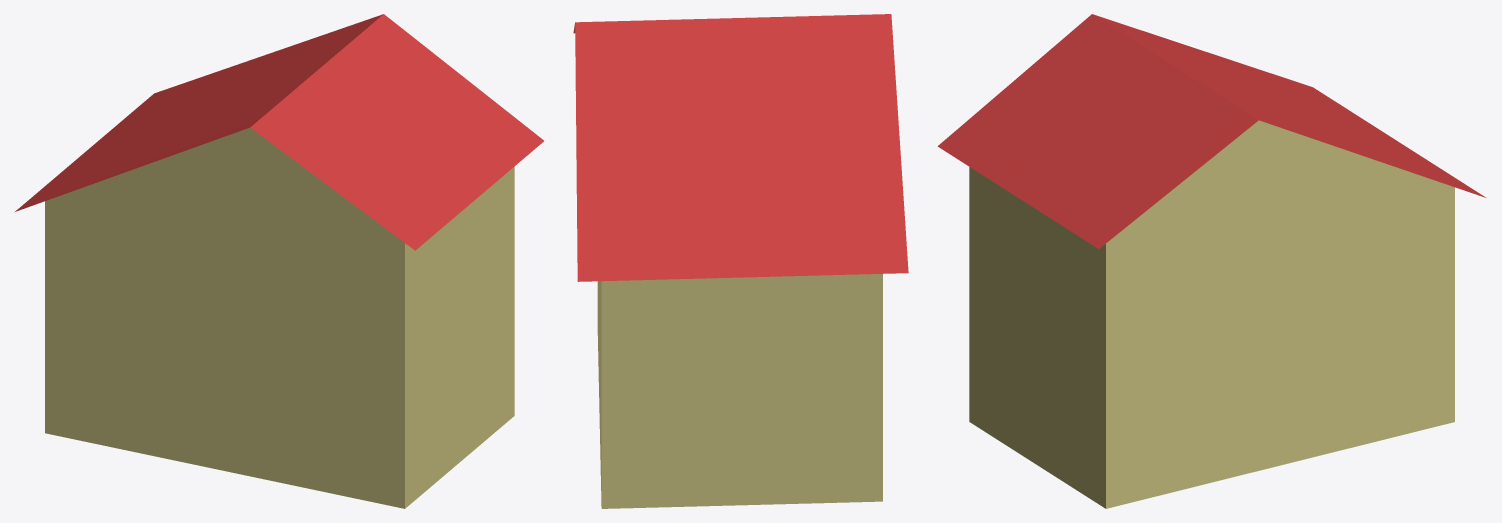
3 views of the same model, side by side, from view 1: azimuth 30°, elevation 25°; view 2: azimuth 150°, elevation 25°; view 3: azimuth 270°, elevation 25° (orthographic). The views are drawn at different scales.
Bounding box in the file's own units: 16.08 × 17.96 × 13.04.
